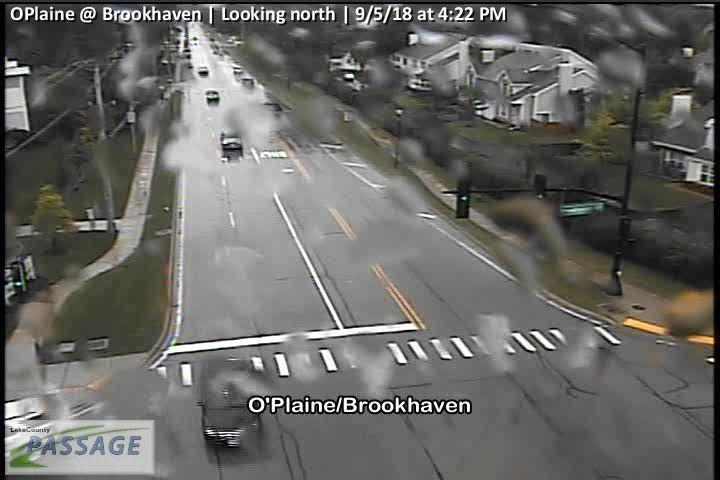SUV: (198, 350, 262, 448), (222, 130, 243, 154), (205, 90, 218, 103)
Sedan: (198, 66, 208, 75)
